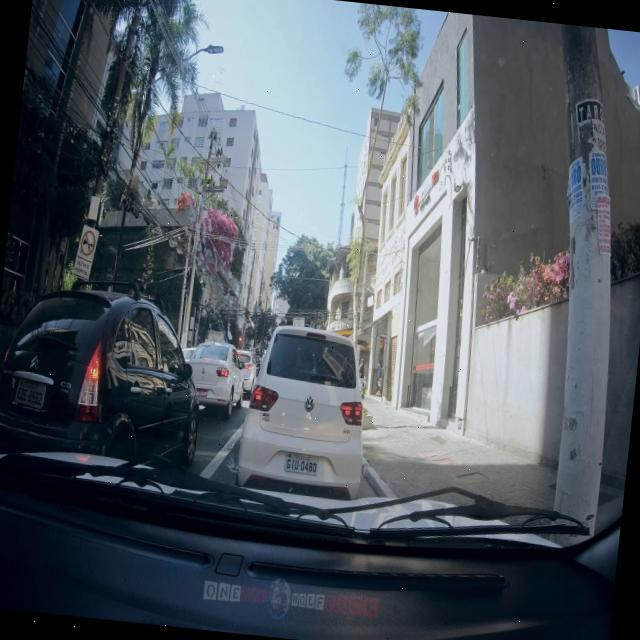License-plate: (12, 379, 46, 414), (284, 452, 320, 473)
